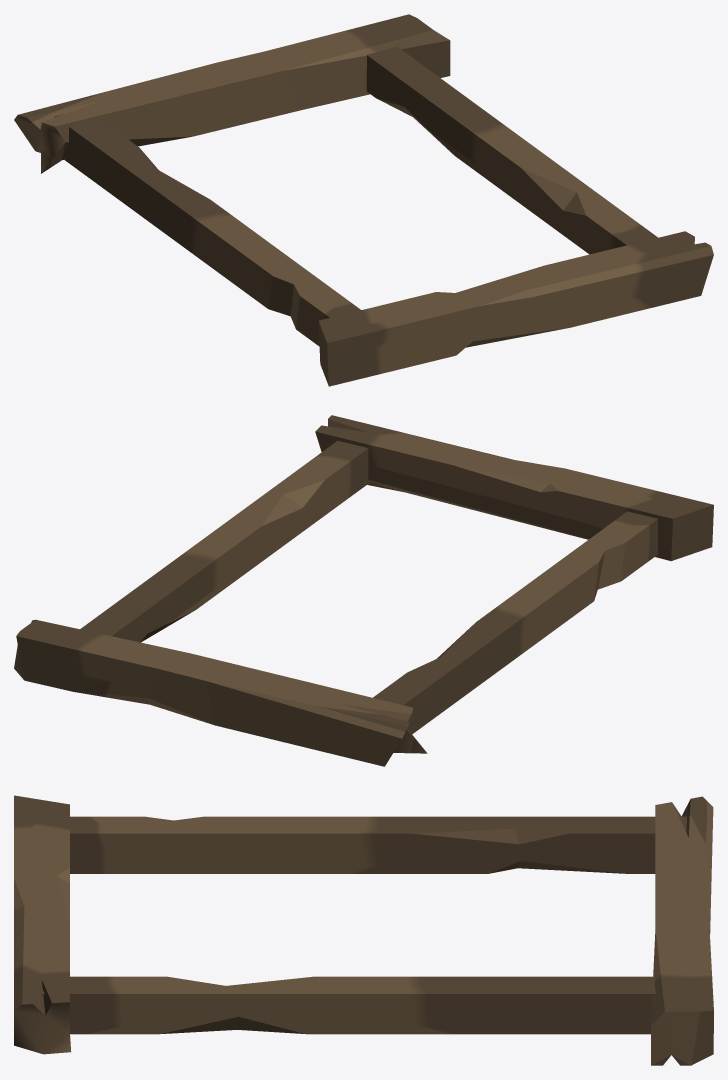
File: SM_Veh_Ship_Grate_07.fbx
The picture shows the model from 3 angles, top to bottom: view 1: azimuth 30°, elevation 25°; view 2: azimuth 150°, elevation 25°; view 3: azimuth 270°, elevation 25°; orthographic projection. The views are drawn at different scales.
Visible parts, largest first — view 1: SM_Veh_Ship_Grate_07; view 2: SM_Veh_Ship_Grate_07; view 3: SM_Veh_Ship_Grate_07.
Part boxes in pixels (x1,y1,x2,y2): SM_Veh_Ship_Grate_07: [14, 14, 713, 386]; SM_Veh_Ship_Grate_07: [14, 415, 713, 766]; SM_Veh_Ship_Grate_07: [14, 795, 713, 1065].
Bounding box in the file's own units: 345 × 35.11 × 460.
